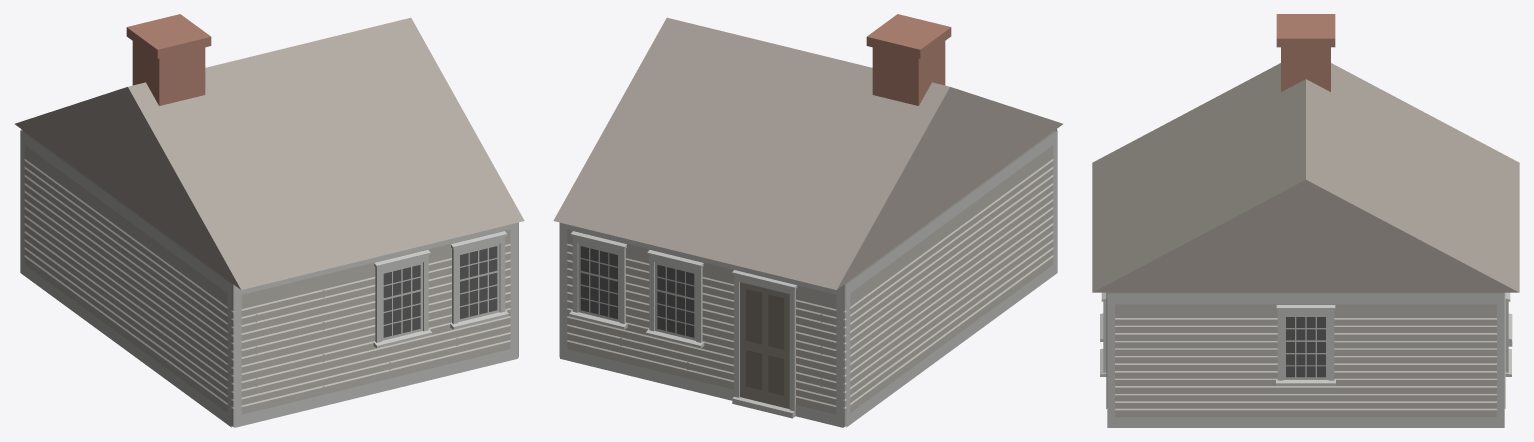
Rendered from recon_1835_north_d3_020__inferred_1835.glb.
3 views of the same model, side by side, from view 1: azimuth 30°, elevation 25°; view 2: azimuth 150°, elevation 25°; view 3: azimuth 270°, elevation 25° (orthographic). The views are drawn at different scales.
Parts seen in each view (by area): view 1: recon_1835_north_d3_020__inferred_1835; view 2: recon_1835_north_d3_020__inferred_1835; view 3: recon_1835_north_d3_020__inferred_1835.
Part boxes in pixels (left/top/right/bottom): recon_1835_north_d3_020__inferred_1835: left=15, top=14, right=524, bottom=427; recon_1835_north_d3_020__inferred_1835: left=553, top=14, right=1062, bottom=427; recon_1835_north_d3_020__inferred_1835: left=1092, top=14, right=1519, bottom=427.
Bounding box in the file's own units: 5.32 × 5.36 × 7.17.
